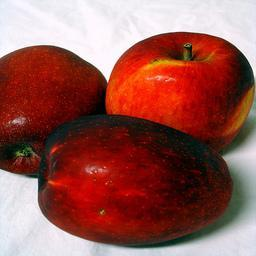apple: (38, 110, 234, 245), (106, 31, 256, 151), (1, 45, 106, 174)
